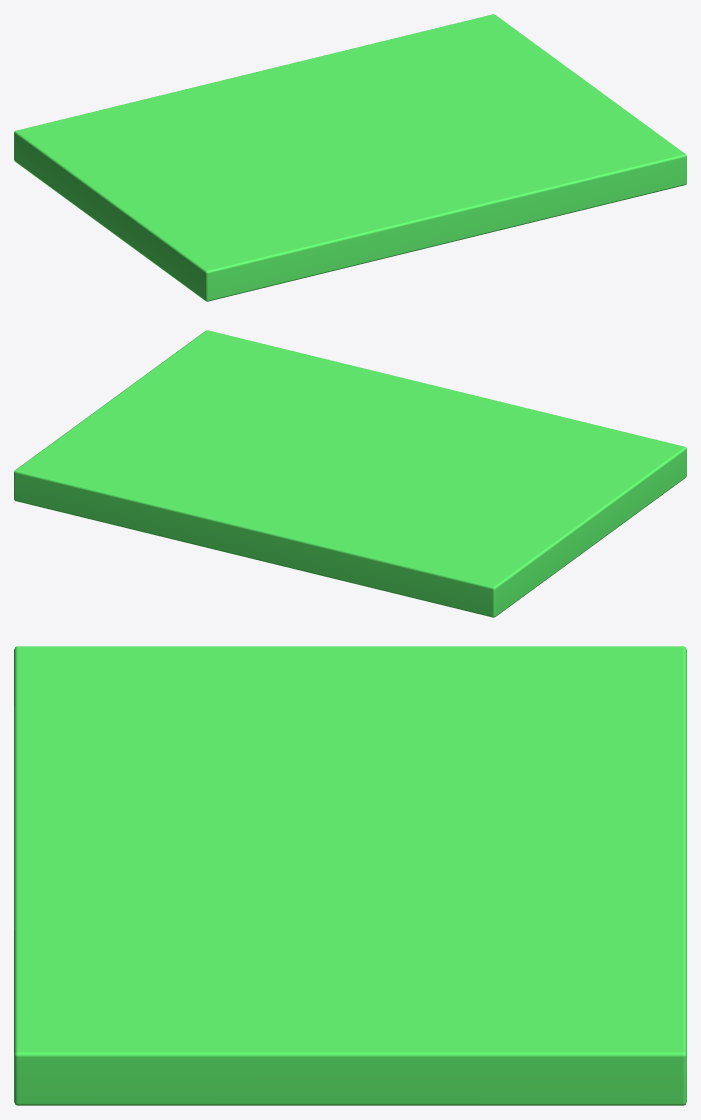
File: SM_ChoppingBoard.fbx
3 views of the same model, one above another, from view 1: azimuth 30°, elevation 25°; view 2: azimuth 150°, elevation 25°; view 3: azimuth 270°, elevation 25° (orthographic). The views are drawn at different scales.
Visible parts, largest first — view 1: SM_ChoppingBoard; view 2: SM_ChoppingBoard; view 3: SM_ChoppingBoard.
Part boxes in pixels (x1,y1,x2,y2): SM_ChoppingBoard: (14,14,686,301); SM_ChoppingBoard: (14,330,686,617); SM_ChoppingBoard: (14,646,686,1105).
Size of the model in its own units: 47.26 by 2.9 by 32.87.
